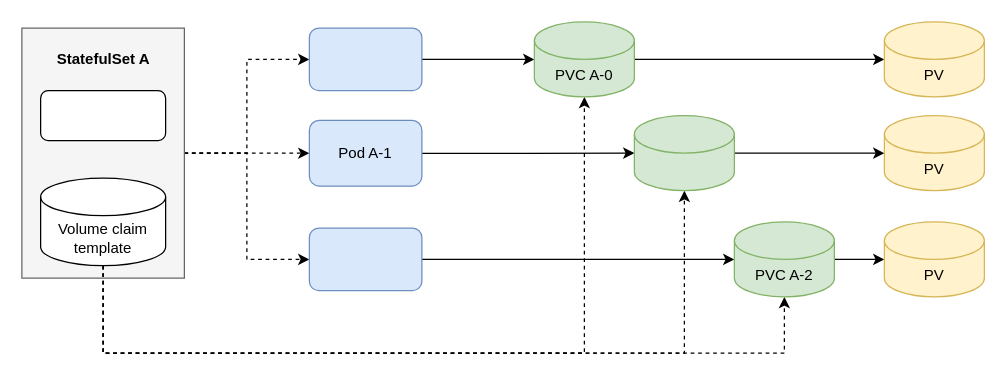
This 1006x385 diagram has some shape labels left out. The box of each missing label's shape, as (x1, y1, x2, y2) in pixels:
Pod A-0: (308, 27, 422, 91)
Pod A-2: (308, 227, 422, 291)
Pod template: (39, 89, 166, 141)
PVC A-1: (633, 114, 734, 191)
